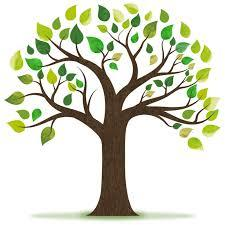tree: (6, 2, 223, 218)
